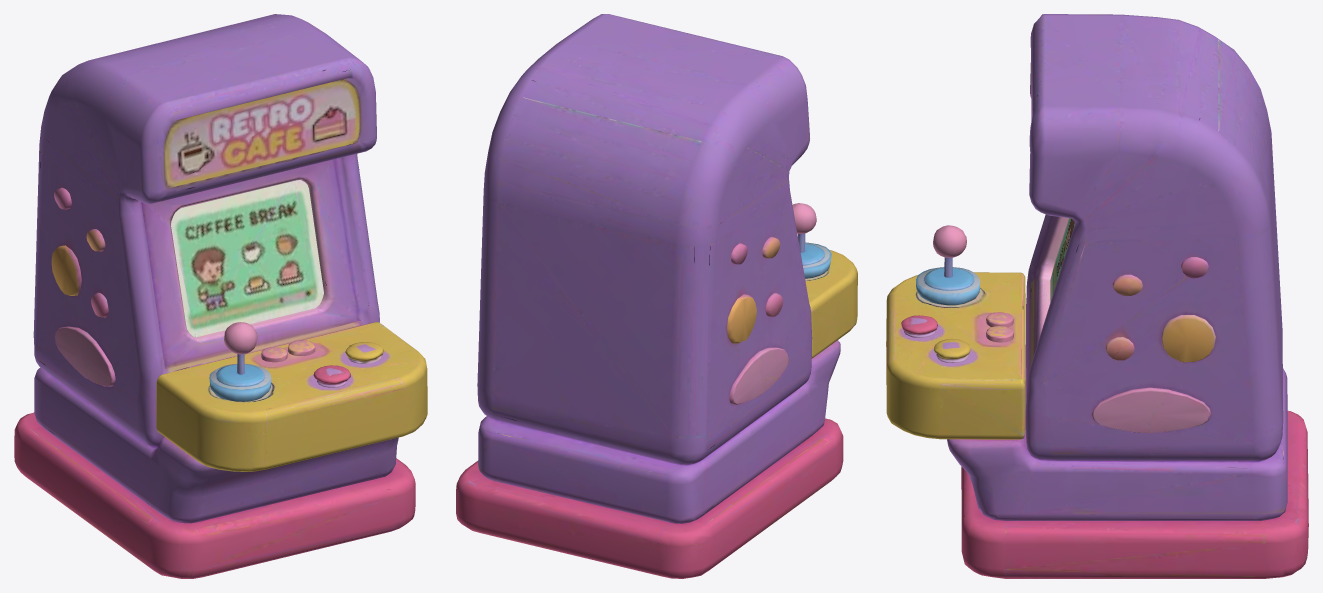
Rendered from arcade-cabinet.glb.
The picture shows the model from 3 angles, left to right: view 1: azimuth 30°, elevation 25°; view 2: azimuth 150°, elevation 25°; view 3: azimuth 270°, elevation 25°; orthographic projection. The views are drawn at different scales.
Parts seen in each view (by area): view 1: geometry_0; view 2: geometry_0; view 3: geometry_0.
Boxes of the visible parts, bbox=[...] form: geometry_0: bbox=[14, 14, 427, 578]; geometry_0: bbox=[456, 14, 857, 578]; geometry_0: bbox=[886, 14, 1308, 578].
Size of the model in its own units: 0.6042 by 0.9985 by 0.8378.
Materials: 1 (1 with a texture image).
